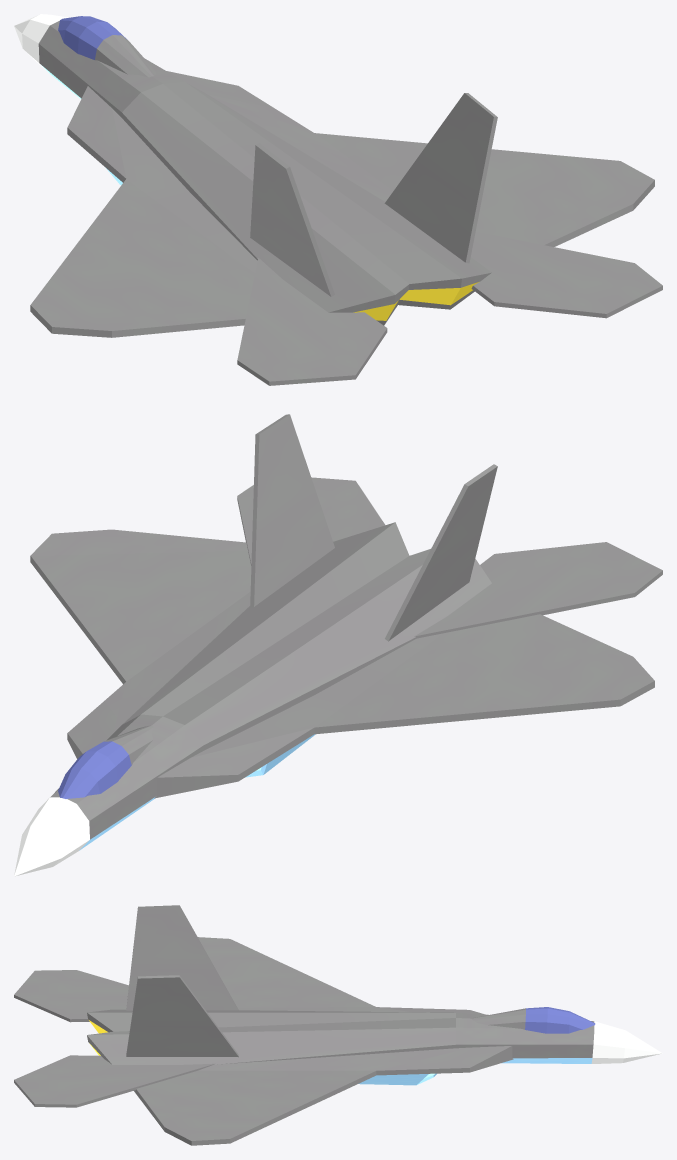
Rendered from transport_air.glb.
3 renders of one model, top to bottom at view 1: azimuth 30°, elevation 25°; view 2: azimuth 150°, elevation 25°; view 3: azimuth 270°, elevation 25°, orthographic. The views are drawn at different scales.
Visible parts, largest first — view 1: transport_air(Clone); view 2: transport_air(Clone); view 3: transport_air(Clone).
Boxes of the visible parts, x1,y1,x2,y2 form: transport_air(Clone): (14, 14, 662, 385); transport_air(Clone): (14, 414, 662, 876); transport_air(Clone): (14, 905, 662, 1145).
Bounding box in the file's own units: 13.08 × 3.74 × 17.56.
1 material, 1 textured.
